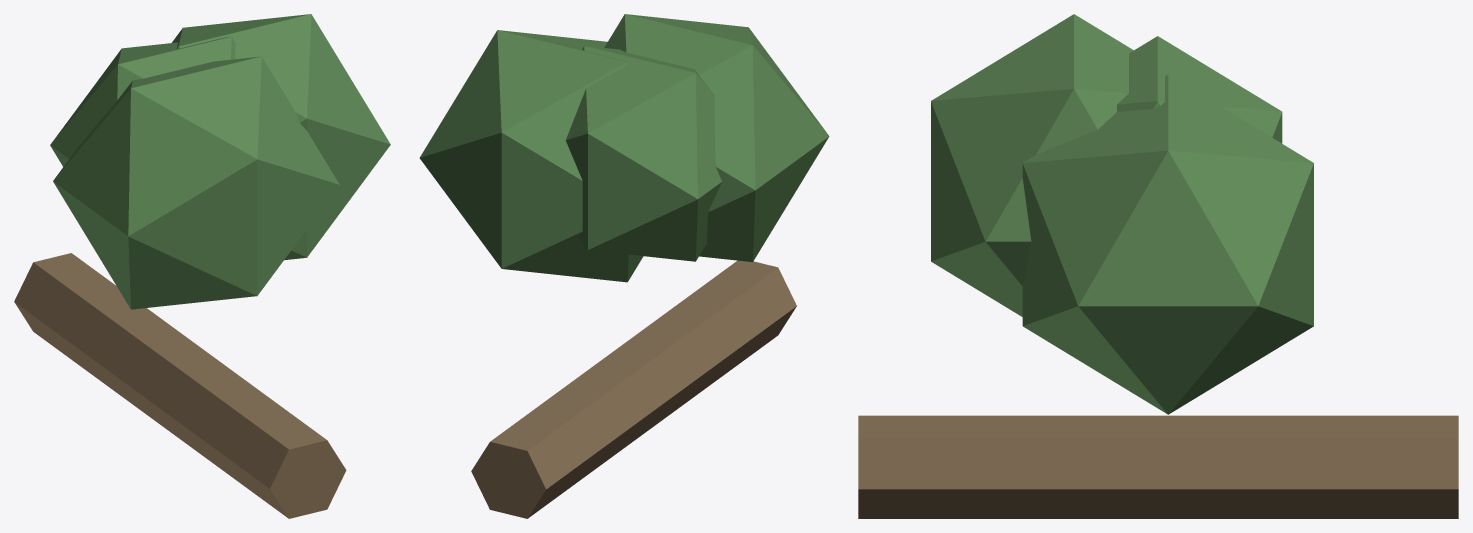
Rendered from tree_s9_09.glb.
The picture shows the model from 3 angles, left to right: view 1: azimuth 30°, elevation 25°; view 2: azimuth 150°, elevation 25°; view 3: azimuth 270°, elevation 25°; orthographic projection. The views are drawn at different scales.
Parts seen in each view (by area): view 1: geometry_0; view 2: geometry_0; view 3: geometry_0.
Part boxes in pixels (x1,y1,x2,y2): geometry_0: [14, 14, 390, 518]; geometry_0: [419, 14, 829, 518]; geometry_0: [858, 14, 1458, 518].
Size of the model in its own units: 2.53 by 3.03 by 3.71.
